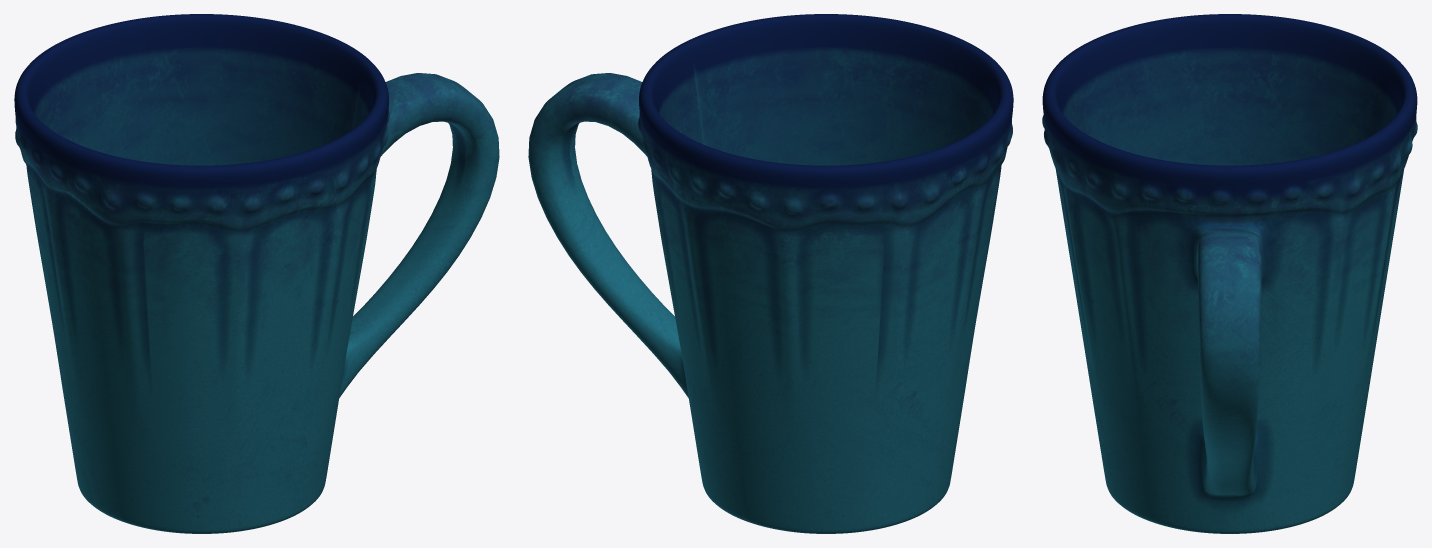
File: mug.glb
3 renders of one model, left to right at view 1: azimuth 30°, elevation 25°; view 2: azimuth 150°, elevation 25°; view 3: azimuth 270°, elevation 25°, orthographic.
Parts seen in each view (by area): view 1: mug_01; view 2: mug_01; view 3: mug_01.
Boxes of the visible parts, x1,y1,x2,y2 form: mug_01: (14, 14, 499, 533); mug_01: (528, 14, 1013, 533); mug_01: (1042, 14, 1417, 533).
Bounding box in the file's own units: 13.7 × 11.39 × 9.86.
Materials: 1 (1 with a texture image).
